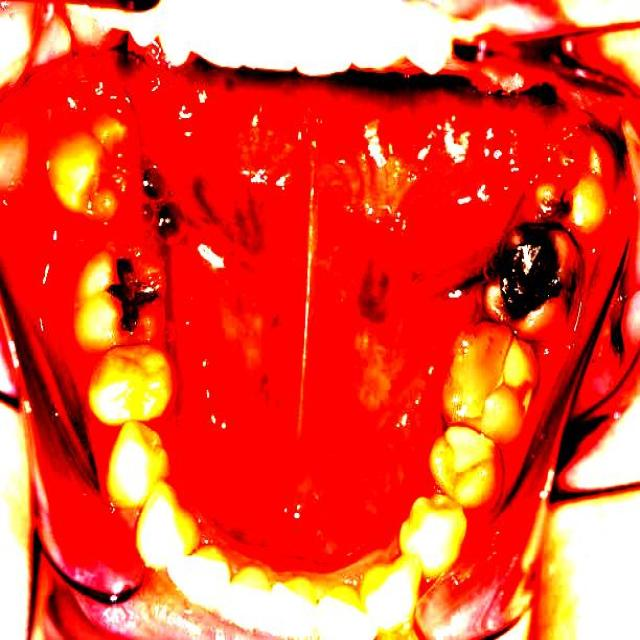caries: (493, 224, 572, 326), (101, 249, 163, 341)
